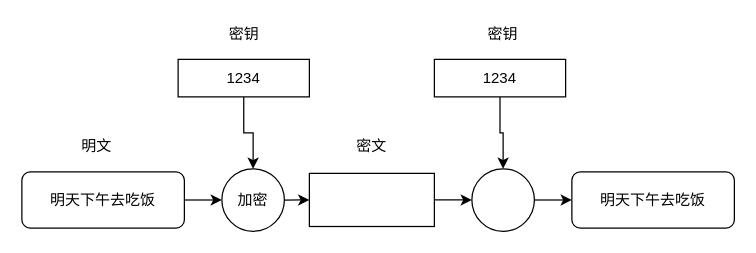
Image size: 756x253. Some labels were removed from this diagram. The shapes that lost their labels are listed below. From the top down, each one's box as (x1, y1, x2, y2) in pixels, then its label:
(308, 172, 434, 226): ABCD
(471, 168, 534, 231): 解密
